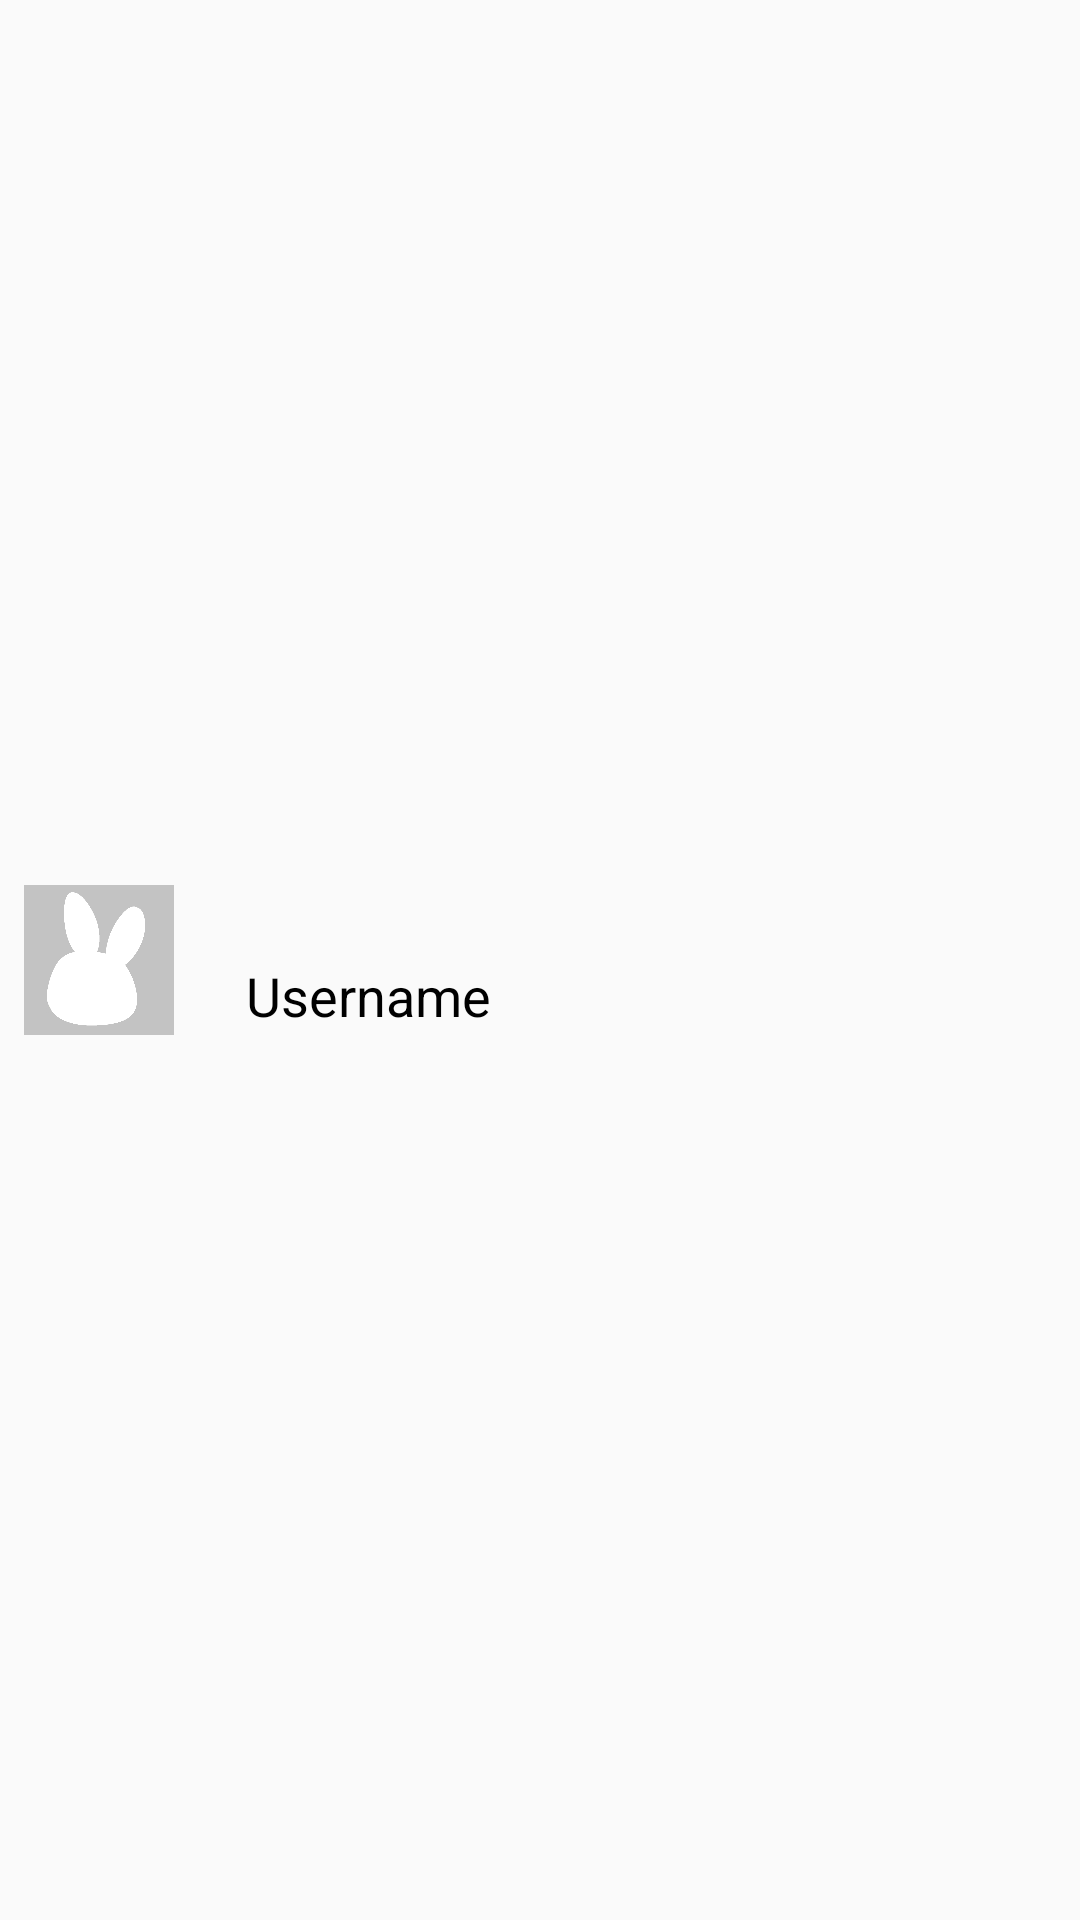

Locate icon controls on the screen. Image size 1080x1920, boxes as (x1, y1, x2, y2).
greyrabbit: (24, 885, 174, 1035)
